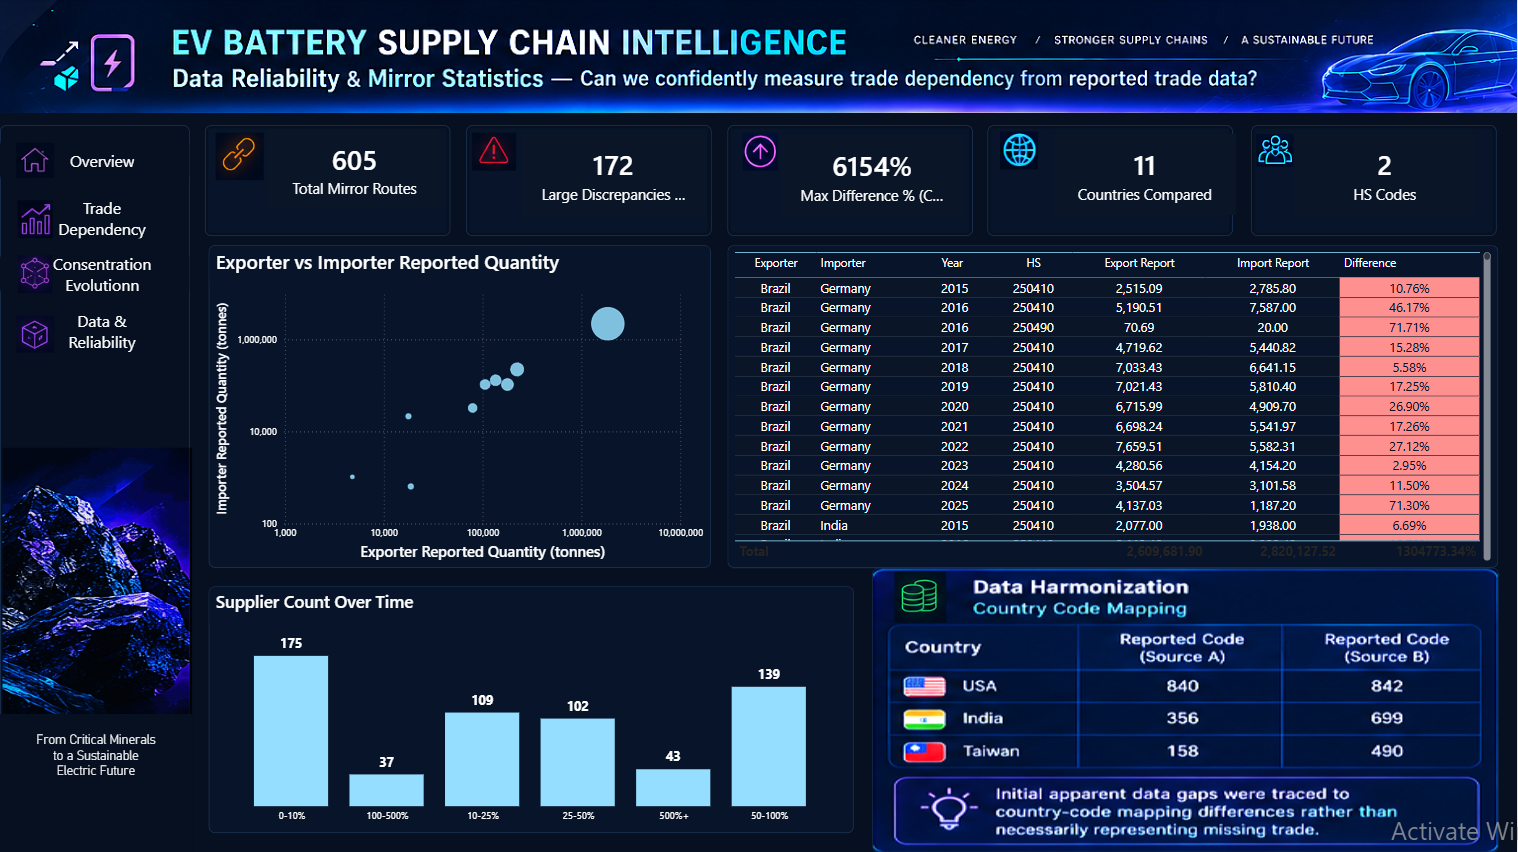

The page's visual inventory and layout, read from the dashboard file:
{"tool":"powerbi","page":{"name":"Data & Reliability  ","canvas":[1920,1080],"ordinal":3},"visuals":[{"type":"shape","box":[920,160,310,140],"z":0,"group":"g1"},{"type":"shape","box":[1250,160,310,140],"z":0},{"type":"shape","box":[0,168,240,72],"z":0,"group":"g6"},{"type":"shape","box":[24,240,192,72],"z":0,"group":"g7"},{"type":"shape","box":[0,312,240,72],"z":0,"group":"g8"},{"type":"shape","box":[24,384,192,72],"z":0,"group":"g9"},{"type":"shape","box":[590,160,310,140],"z":1000},{"type":"actionButton","box":[34,168,192,72],"z":1000,"group":"g6"},{"type":"image","box":[929,170,64,48],"z":1000,"group":"g1"},{"type":"actionButton","box":[51.2,240,153.6,72],"z":1000,"group":"g7"},{"type":"actionButton","box":[34,312,192,72],"z":1000,"group":"g8"},{"type":"actionButton","box":[51.2,384,153.6,72],"z":1000,"group":"g9"},{"type":"image","box":[0,0,1920,144],"z":2000},{"type":"shape","box":[1584,160,310,140],"z":3000},{"type":"shape","box":[260,160,310,140],"z":4000},{"type":"image","box":[1257,168,64,48],"z":5000},{"type":"cardVisual","fields":{"Data":["ev v_mirror_comparison.Large Discrepancies"]},"box":[656,166,240,112],"z":6000},{"type":"shape","title":"SIDEBAR","box":[0,160,240,910],"z":7000},{"type":"image","box":[1589,168,48,48],"z":8000},{"type":"cardVisual","fields":{"Data":["ev v_mirror_comparison.Total Mirror Routes"]},"box":[333,160,230,110],"z":9000},{"type":"cardVisual","fields":{"Data":["ev v_mirror_comparison.Countries Compared"]},"box":[1328,166,240,112],"z":10000},{"type":"image","box":[593,170,64,48],"z":11000},{"type":"image","box":[3,568,240,512],"z":12000},{"type":"cardVisual","fields":{"Data":["ev v_mirror_comparison.HS Codes"]},"box":[1632,166,240,112],"z":13000},{"type":"textbox","box":[0,904,243,176],"z":14000},{"type":"image","box":[270,170,65,60],"z":15000},{"type":"group","id":"g1","title":"KPI_3_Countries","box":[920,160,310,140],"z":16000},{"type":"cardVisual","fields":{"Data":["ev v_mirror_comparison.Max Difference %"]},"box":[984,168,240,112],"z":17000},{"type":"scatterChart","title":"Exporter vs Importer Reported Quantity","fields":{"Category":["ev v_mirror_comparison.exporter_name"],"Size":["Sum(ev v_mirror_comparison.reported_qty_t)"],"X":["Sum(ev v_mirror_comparison.reported_qty_t)"],"Y":["Sum(ev v_mirror_comparison.mirror_qty_t)"]},"box":[264,312,635,408],"z":18000},{"type":"clusteredColumnChart","title":"Supplier Count Over Time","fields":{"Category":["ev v_mirror_comparison.Discrepancy Bin"],"Y":["ev v_mirror_comparison.Discrepancy Count"]},"box":[264,744,816,312],"z":19000},{"type":"tableEx","fields":{"Values":["ev v_mirror_comparison.exporter_name","ev v_mirror_comparison.importer_name","ev v_mirror_comparison.year","ev v_mirror_comparison.hs_code","Sum(ev v_mirror_comparison.reported_qty_t)","Sum(ev v_mirror_comparison.mirror_qty_t)","Sum(ev v_mirror_comparison.diff_pct)"]},"box":[920,312,975,408],"z":20000},{"type":"image","box":[1104,720,792,360],"z":21000},{"type":"image","box":[1125,725,80,65],"z":22000},{"type":"group","id":"g2","title":"Group 2","box":[0,168,240,72],"z":22001},{"type":"group","id":"g3","title":"Group 3","box":[20,240,196,72],"z":22002},{"type":"group","id":"g4","title":"Group 4","box":[0,312,240,72],"z":22003},{"type":"group","id":"g5","title":"Group 5","box":[20,384,196,72],"z":22004},{"type":"group","id":"g6","title":"Group 1","box":[0,168,240,72],"z":34000,"group":"g2"},{"type":"group","id":"g7","title":"Group 1","box":[24,240,192,72],"z":35000,"group":"g3"},{"type":"group","id":"g8","title":"Group 1","box":[0,312,240,72],"z":36000,"group":"g4"},{"type":"group","id":"g9","title":"Group 1","box":[24,384,192,72],"z":37000,"group":"g5"},{"type":"image","box":[20,180,48,48],"z":37500,"group":"g2"},{"type":"image","box":[20,255,48,48],"z":37501,"group":"g3"},{"type":"image","box":[20,325,48,48],"z":37502,"group":"g4"},{"type":"image","box":[20,400,48,48],"z":37503,"group":"g5"}]}

Visuals, with their boxes in screenshot pixels (x1, y1, x2, y2), scaled from the page's 1920x1080 canvas onto the 1518x852 screenshot:
shape: 727/126/972/237
shape: 988/126/1233/237
shape: 0/133/190/189
shape: 19/189/171/246
shape: 0/246/190/303
shape: 19/303/171/360
shape: 466/126/712/237
actionButton: 27/133/179/189
image: 734/134/785/172
actionButton: 40/189/162/246
actionButton: 27/246/179/303
actionButton: 40/303/162/360
image: 0/0/1517/114
shape: 1252/126/1497/237
shape: 206/126/451/237
image: 994/133/1044/170
cardVisual - ev v_mirror_comparison.Large Discrepancies: 519/131/708/219
"SIDEBAR" shape: 0/126/190/844
image: 1256/133/1294/170
cardVisual - ev v_mirror_comparison.Total Mirror Routes: 263/126/445/213
cardVisual - ev v_mirror_comparison.Countries Compared: 1050/131/1240/219
image: 469/134/519/172
image: 2/448/192/851
cardVisual - ev v_mirror_comparison.HS Codes: 1290/131/1480/219
textbox: 0/713/192/851
image: 213/134/265/181
"KPI_3_Countries" group: 727/126/972/237
cardVisual - ev v_mirror_comparison.Max Difference %: 778/133/968/221
"Exporter vs Importer Reported Quantity" scatterChart: 209/246/711/568
"Supplier Count Over Time" clusteredColumnChart: 209/587/854/833
tableEx - ev v_mirror_comparison.exporter_name x ev v_mirror_comparison.importer_name: 727/246/1498/568
image: 873/568/1499/851
image: 889/572/953/623
"Group 2" group: 0/133/190/189
"Group 3" group: 16/189/171/246
"Group 4" group: 0/246/190/303
"Group 5" group: 16/303/171/360
"Group 1" group: 0/133/190/189
"Group 1" group: 19/189/171/246
"Group 1" group: 0/246/190/303
"Group 1" group: 19/303/171/360
image: 16/142/54/180
image: 16/201/54/239
image: 16/256/54/294
image: 16/316/54/353
